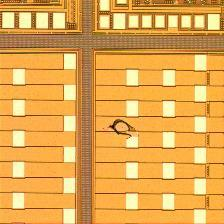PARTICLE: (103, 117, 142, 150)
